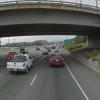Bridge: (2, 0, 95, 45)
